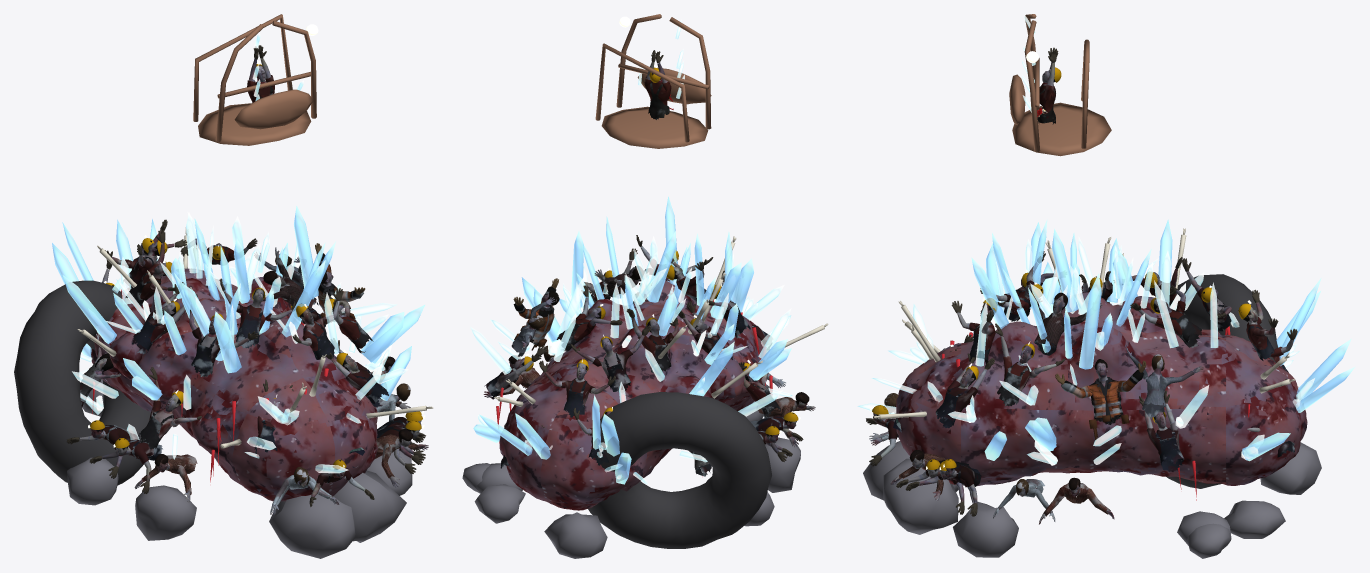
The model's file is hauler.glb.
The picture shows the model from 3 angles, left to right: view 1: azimuth 30°, elevation 25°; view 2: azimuth 150°, elevation 25°; view 3: azimuth 270°, elevation 25°; orthographic projection. The views are drawn at different scales.
Visible parts, largest first — view 1: Body, Ice, Cab, Crawler8, Crawler5, Crawler1, Crawler10, Driver, Crawler0, Crawler2, Crawler3, Crawler11; view 2: Body, Ice, Cab, Driver, Crawler8, Crawler5, Crawler9; view 3: Body, Ice, Cab, Driver, Crawler9, Crawler6, Crawler11, Crawler0, Crawler2, Crawler1.
Boxes of the visible parts, x1,y1,x2,y2 form: Body: [14, 219, 433, 558]; Ice: [52, 206, 424, 482]; Cab: [193, 14, 318, 145]; Crawler8: [89, 438, 162, 493]; Crawler5: [134, 454, 197, 502]; Crawler1: [374, 429, 428, 487]; Crawler10: [66, 420, 139, 478]; Driver: [247, 45, 274, 102]; Crawler0: [309, 459, 374, 506]; Crawler2: [377, 420, 424, 473]; Crawler3: [270, 467, 336, 514]; Crawler11: [376, 383, 410, 421]; Body: [462, 235, 828, 558]; Ice: [470, 196, 792, 484]; Cab: [595, 14, 711, 148]; Driver: [644, 50, 673, 119]; Crawler8: [750, 412, 803, 461]; Crawler5: [757, 392, 815, 447]; Crawler9: [483, 355, 539, 397]; Body: [863, 228, 1321, 558]; Ice: [857, 219, 1355, 500]; Cab: [1009, 14, 1111, 156]; Driver: [1037, 47, 1061, 124]; Crawler9: [1039, 477, 1114, 524]; Crawler6: [907, 459, 981, 515]; Crawler11: [993, 479, 1055, 521]; Crawler0: [866, 405, 898, 466]; Crawler2: [896, 459, 970, 514]; Crawler1: [890, 450, 945, 501].
Bounding box in the file's own units: 5.98 × 8.39 × 7.53.
198 materials, 133 textured.
